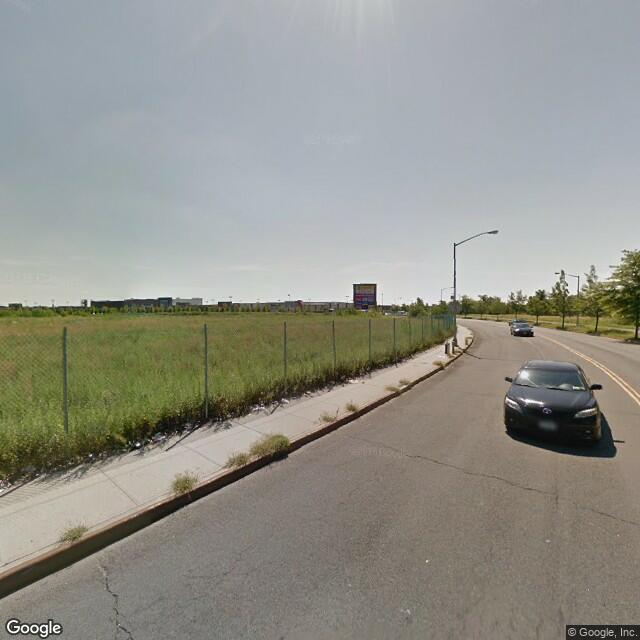litter: (341, 372, 365, 387), (152, 428, 172, 444), (82, 449, 103, 462), (128, 438, 147, 449)
